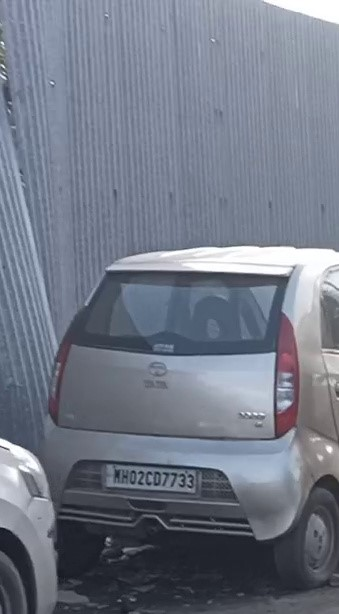MH02CD7733: (102, 461, 198, 494)
